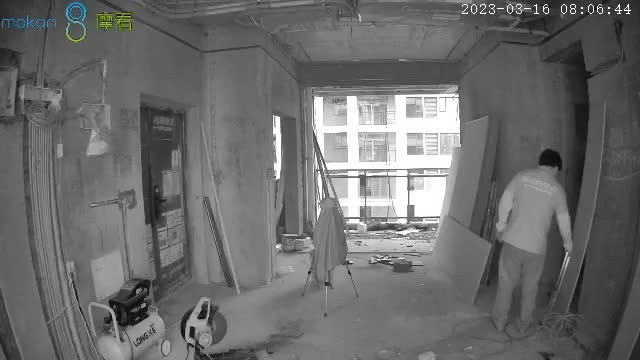people: (494, 148, 573, 331)
window: (311, 90, 458, 222)
